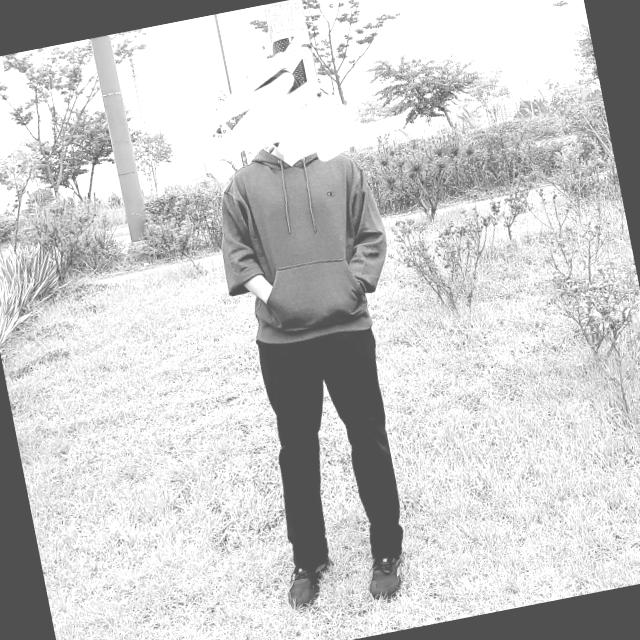hoodies: (203, 132, 403, 356)
slacks: (250, 322, 417, 578)
